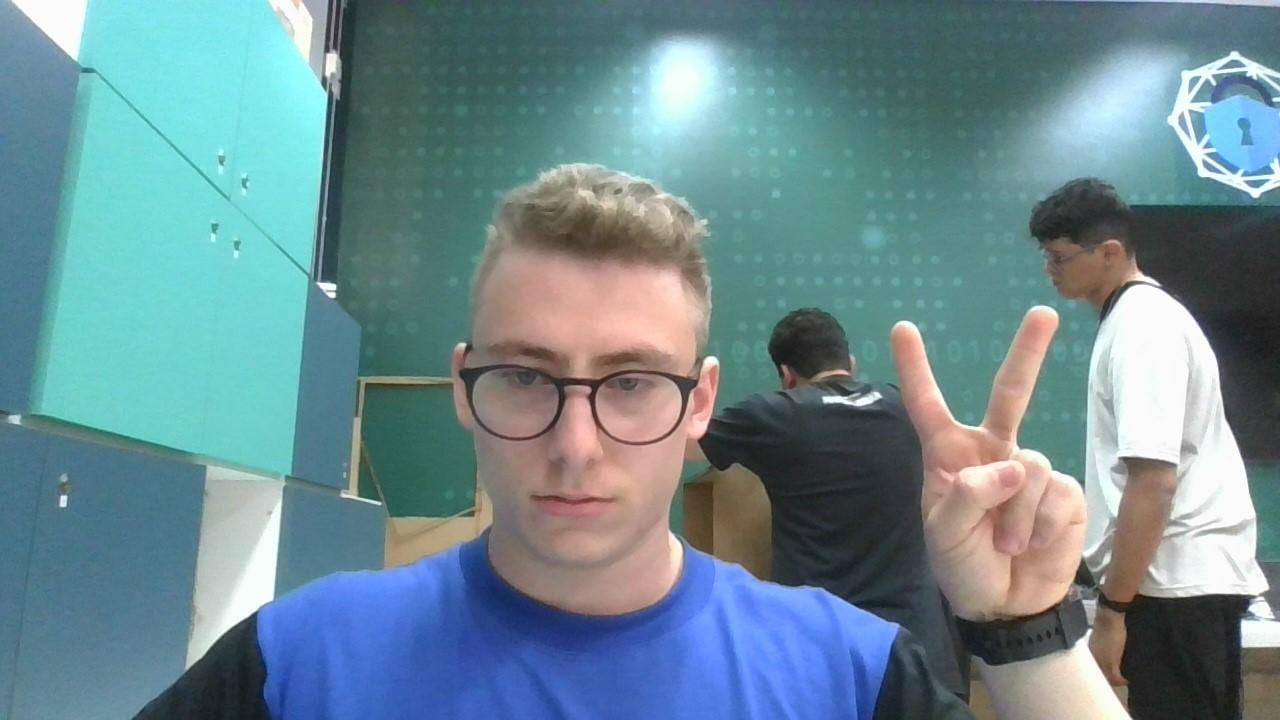V: (884, 302, 1094, 608)
